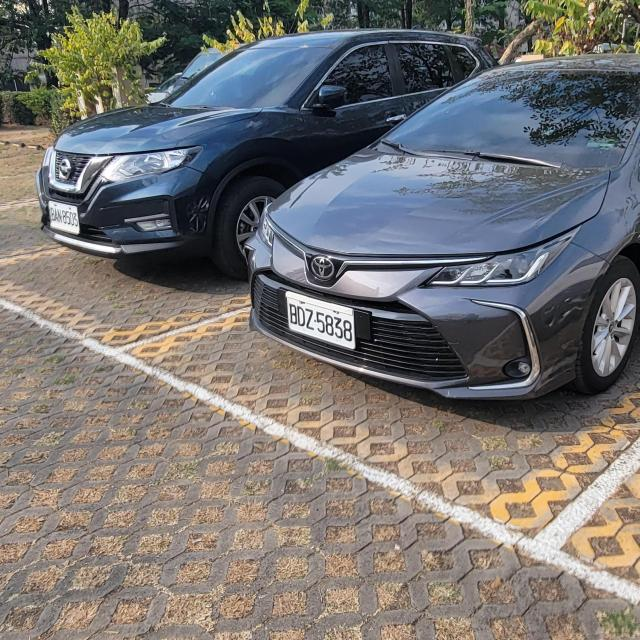W: (286, 294, 354, 349), (47, 199, 81, 233), (155, 218, 166, 226)
